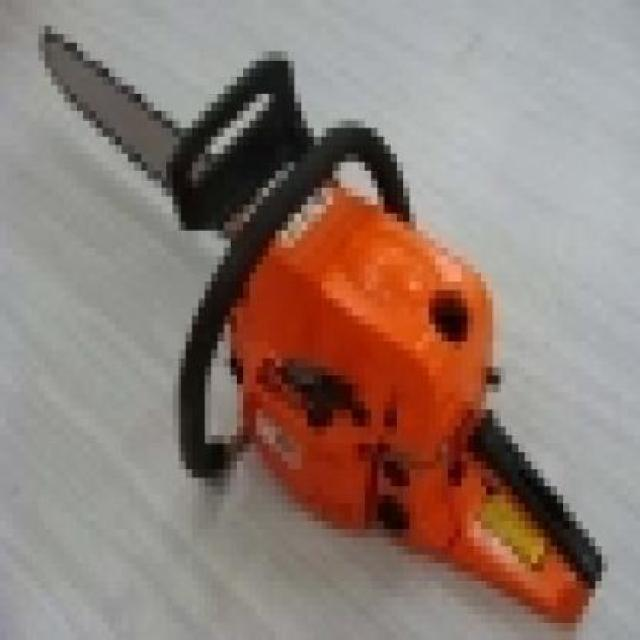Chainsaw: (19, 17, 615, 632)
